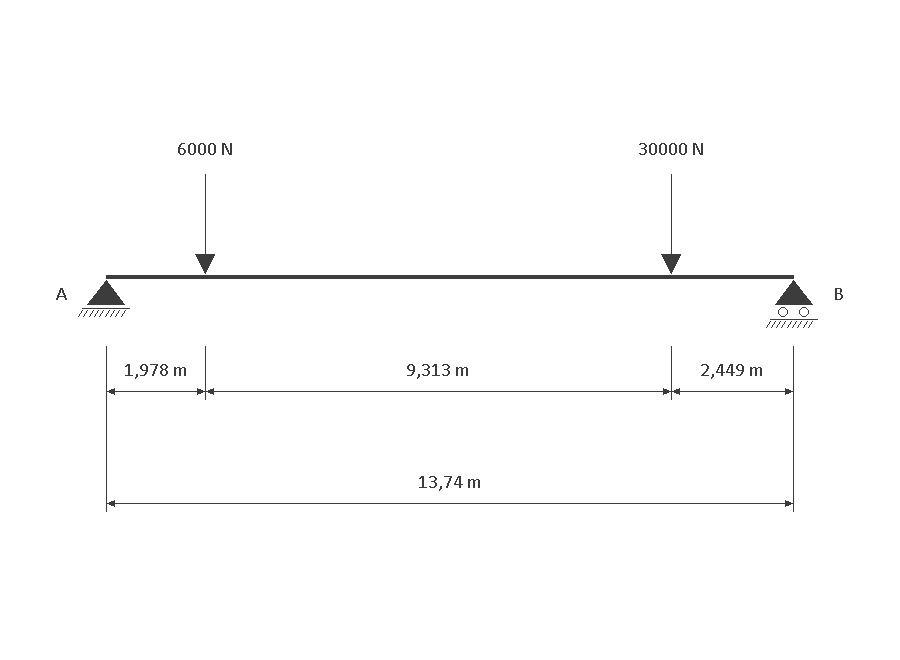pin_support: (78, 280, 130, 317)
point_load: (195, 174, 215, 274), (661, 174, 681, 274)
roller_support: (766, 280, 818, 328)
